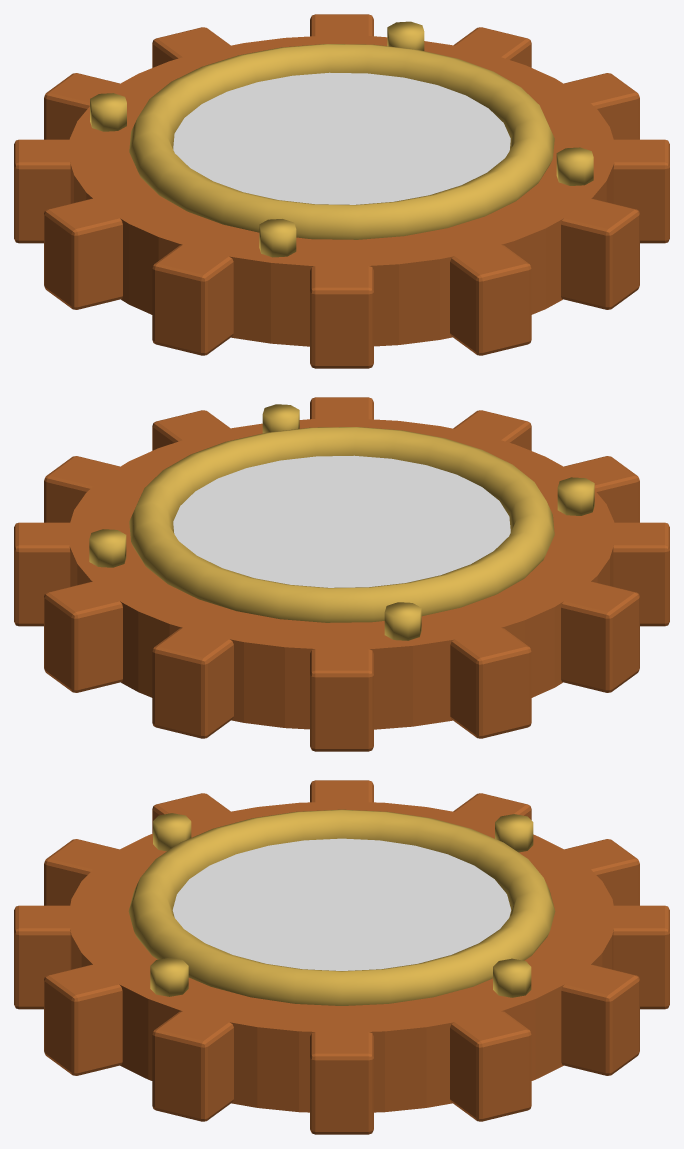
File: kc_engrenagem.glb
The picture shows the model from 3 angles, top to bottom: view 1: azimuth 30°, elevation 25°; view 2: azimuth 150°, elevation 25°; view 3: azimuth 270°, elevation 25°; orthographic projection.
Parts seen in each view (by area): view 1: Cylinder, screen, Torus.014, Cube.009, Cube.007, Cube.010, Cube.006, Cube.008, Cube.011, Cube.005, Cube.004, Cube (+7 smaller); view 2: Cylinder, screen, Torus.014, Cube.003, Cube.005, Cube.002, Cube.006, Cube.004, Cube.007, Cube.001, Cube, Cube.008 (+7 smaller); view 3: Cylinder, screen, Torus.014, Cube.011, Cube.001, Cube.010, Cube.002, Cube, Cube.003, Cube.009, Cube.004, Cube.008 (+7 smaller).
Boxes of the visible parts, bbox=[...] form: Cylinder: bbox=[69, 35, 614, 346]; screen: bbox=[173, 72, 510, 204]; Torus.014: bbox=[129, 44, 554, 239]; Cube.009: bbox=[450, 241, 531, 355]; Cube.007: bbox=[152, 242, 233, 355]; Cube.010: bbox=[557, 197, 639, 309]; Cube.006: bbox=[44, 198, 127, 309]; Cube.008: bbox=[310, 262, 373, 368]; Cube.011: bbox=[605, 139, 669, 243]; Cube.005: bbox=[14, 139, 78, 243]; Cube.004: bbox=[44, 73, 126, 139]; Cube: bbox=[560, 73, 639, 139]; Cylinder: bbox=[68, 418, 614, 729]; screen: bbox=[173, 455, 510, 587]; Torus.014: bbox=[129, 427, 554, 622]; Cube.003: bbox=[152, 625, 233, 738]; Cube.005: bbox=[450, 625, 531, 738]; Cube.002: bbox=[44, 580, 127, 692]; Cube.006: bbox=[557, 580, 639, 692]; Cube.004: bbox=[310, 645, 373, 751]; Cube.007: bbox=[605, 522, 669, 626]; Cube.001: bbox=[14, 522, 78, 626]; Cube: bbox=[44, 456, 126, 522]; Cube.008: bbox=[557, 456, 639, 522]; Cylinder: bbox=[70, 801, 613, 1112]; screen: bbox=[172, 838, 511, 970]; Torus.014: bbox=[128, 809, 555, 1005]; Cube.011: bbox=[152, 1007, 233, 1121]; Cube.001: bbox=[450, 1008, 531, 1121]; Cube.010: bbox=[44, 964, 124, 1075]; Cube.002: bbox=[561, 963, 639, 1075]; Cube: bbox=[310, 1028, 373, 1134]; Cube.003: bbox=[605, 905, 669, 1009]; Cube.009: bbox=[14, 905, 78, 1009]; Cube.004: bbox=[557, 839, 639, 905]; Cube.008: bbox=[44, 839, 122, 905].
Size of the model in its own units: 1.03 by 0.185 by 1.03.
